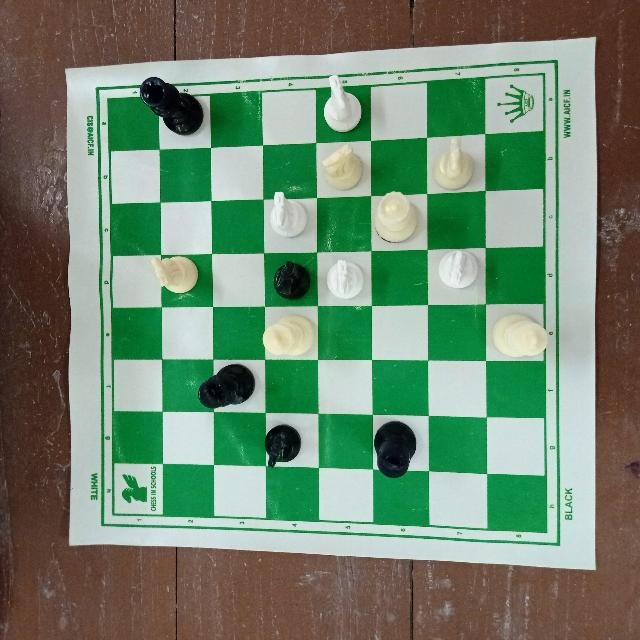black-king: (134, 72, 208, 139), (370, 417, 420, 482), (195, 364, 259, 412)
black-knight: (262, 420, 303, 474), (268, 258, 312, 300)
white-king: (490, 309, 550, 363), (259, 311, 319, 360)
white-knight: (430, 133, 480, 196), (319, 72, 367, 131), (150, 250, 204, 302), (265, 188, 314, 240), (317, 141, 367, 191), (320, 251, 368, 302), (436, 245, 484, 290)
white-queen: (370, 189, 422, 247)
